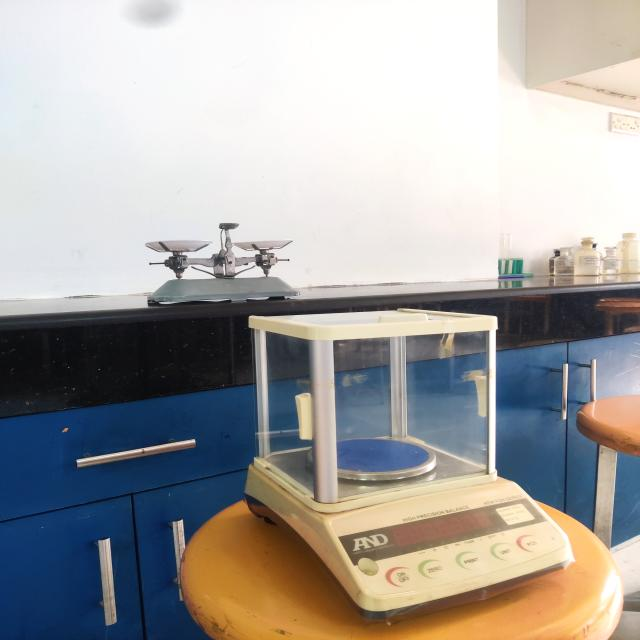Mechanical_Balance_Scale: (128, 197, 318, 318)
Precision_Weight_Scale: (213, 299, 602, 637)
